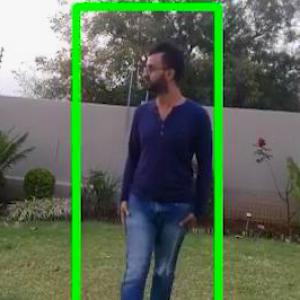follow: (97, 12, 223, 299)
